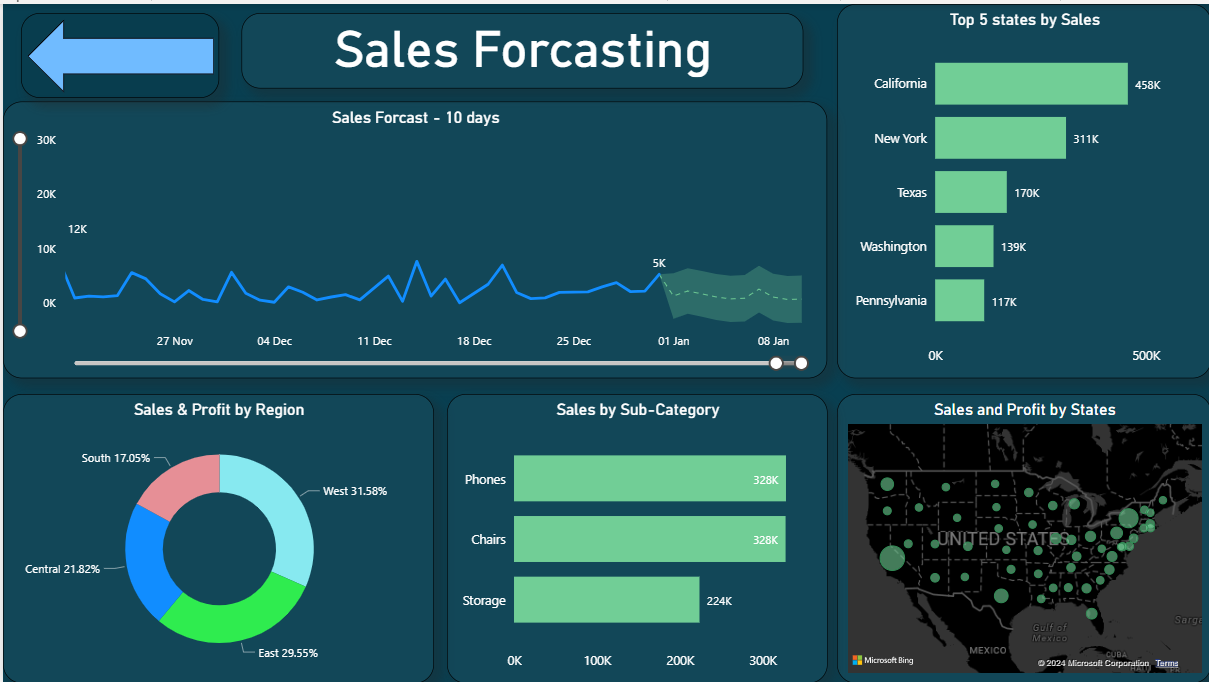

This screenshot's page, from the dashboard's own definition file:
{"tool":"powerbi","page":{"name":"Report -2","canvas":[1280,720],"ordinal":1},"visuals":[{"type":"map","title":"Sales and Profit by States","fields":{"Category":["TechnoEdge Monthy Sales Data.State"],"Size":["Sum(TechnoEdge Monthy Sales Data.Sales)"]},"box":[883.3,413.3,396.7,306.7],"z":0},{"type":"barChart","title":"Sales by Sub-Category","fields":{"Category":["TechnoEdge Monthy Sales Data.Sub-Category"],"Y":["Sum(TechnoEdge Monthy Sales Data.Sales)"]},"box":[470,413.3,403.3,306.7],"z":1000},{"type":"donutChart","title":"Sales & Profit by Region","fields":{"Y":["Sum(TechnoEdge Monthy Sales Data.Sales)"],"Category":["TechnoEdge Monthy Sales Data.Region"]},"box":[0,413.3,456.7,306.7],"z":2000},{"type":"lineChart","title":"Sales Forcast - 10 days","fields":{"Y":["Sum(Sales_forcast.New order date)"],"Category":["Sales_forcast.Order Date"]},"box":[0,103.3,873.3,293.3],"z":3000},{"type":"textbox","title":"Sales Forcasting","box":[253.3,10,595,80],"z":4000},{"type":"barChart","title":"Top 5 states by Sales","fields":{"Category":["TechnoEdge Monthy Sales Data.State"],"Y":["Sum(TechnoEdge Monthy Sales Data.Sales)"]},"box":[883.3,0,396.7,396.7],"z":5001},{"type":"shape","box":[18.3,10,210,90],"z":5004}]}

Visuals, with their boxes in screenshot pixels (x1, y1, x2, y2), scaled from the page's 1280x720 canvas onto the 1209x682 screenshot:
"Sales and Profit by States" map: <box>834,391,1208,681</box>
"Sales by Sub-Category" barChart: <box>444,391,825,681</box>
"Sales & Profit by Region" donutChart: <box>0,391,431,681</box>
"Sales Forcast - 10 days" lineChart: <box>0,98,825,376</box>
"Sales Forcasting" textbox: <box>239,9,801,85</box>
"Top 5 states by Sales" barChart: <box>834,0,1208,376</box>
shape: <box>17,9,216,95</box>
